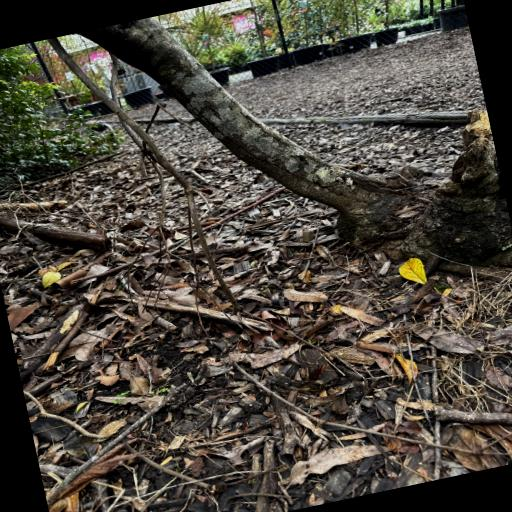tree root: (73, 18, 512, 281)
